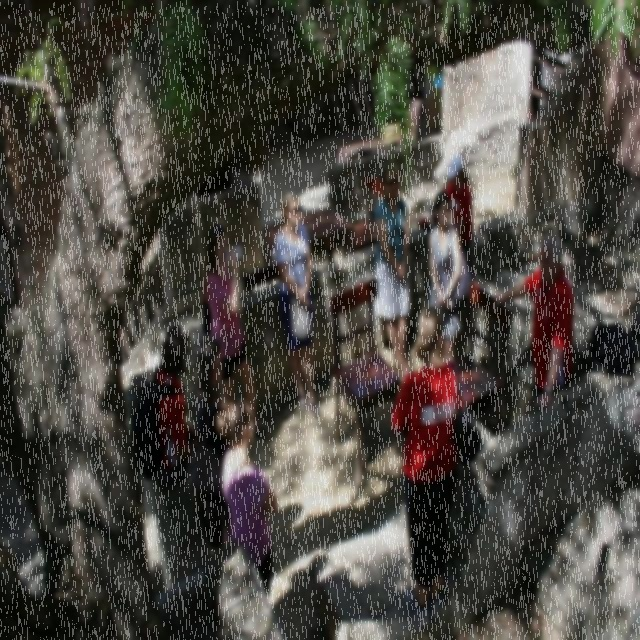pessoa: (388, 300, 486, 632), (202, 220, 274, 442), (492, 228, 576, 412), (213, 394, 281, 600), (273, 188, 322, 421), (370, 158, 418, 382), (188, 334, 230, 556), (151, 326, 197, 484), (426, 188, 463, 322), (442, 152, 474, 254)
